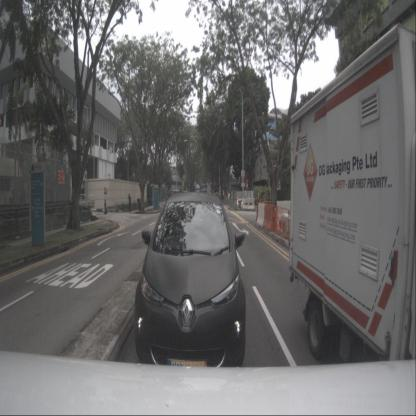barrier: (276, 206, 290, 238), (262, 204, 278, 231), (276, 199, 291, 220), (256, 202, 266, 228), (242, 197, 255, 209)
cone: (276, 214, 281, 230)
